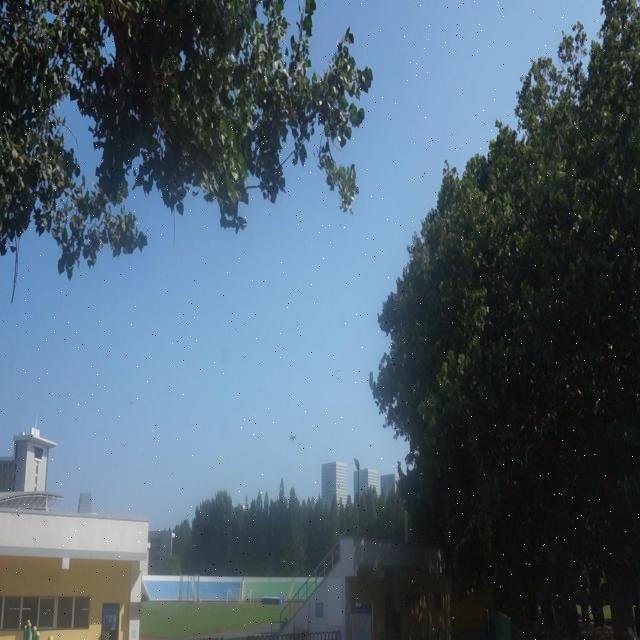UAV: (290, 434, 296, 441)
